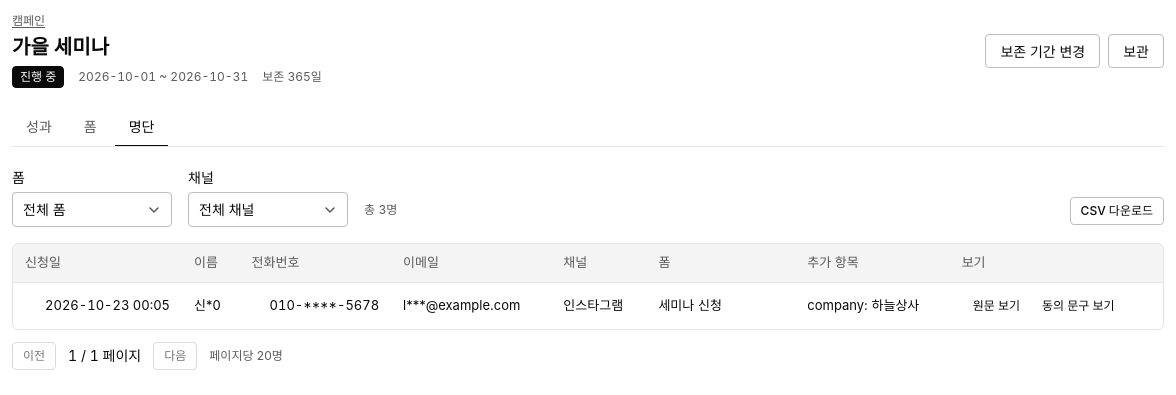
Test: 명단 CSV 다운로드 › Esc로 메뉴를 닫고 버튼으로 포커스를 돌린다
Check: the text "신*0" is shown, box [182, 282, 240, 328]
Click the button "CSV 다운로드".
click(1117, 211)  # box [1070, 197, 1164, 225]
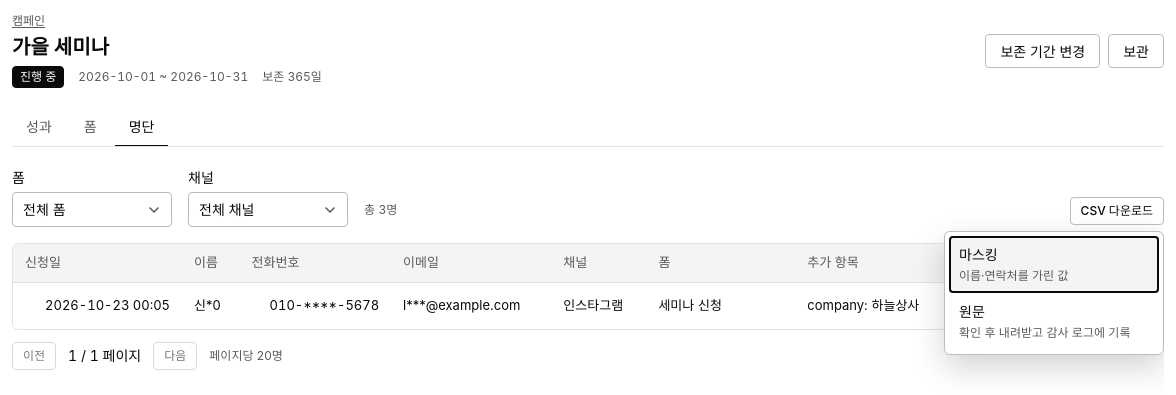
Press ArrowDown in the menu named "CSV 다운로드", box [944, 231, 1164, 355]
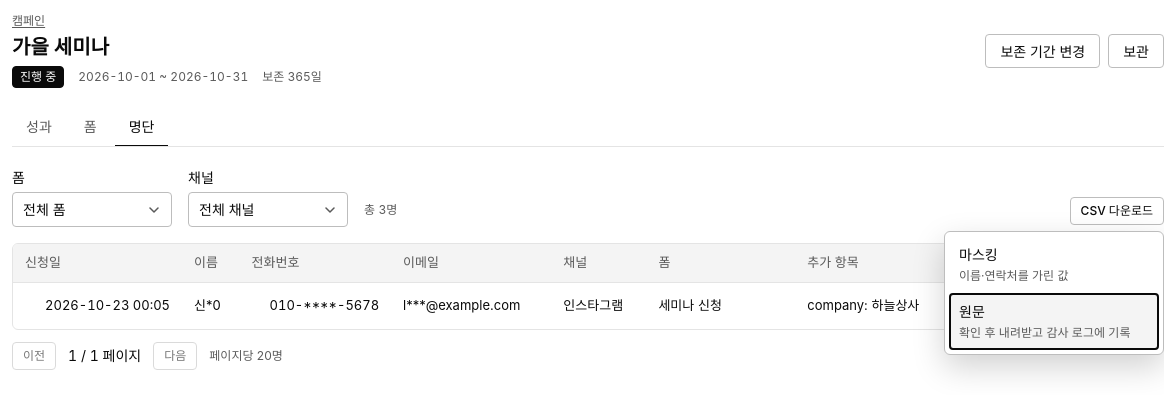
Press Escape in the menu named "CSV 다운로드", box [944, 231, 1164, 355]
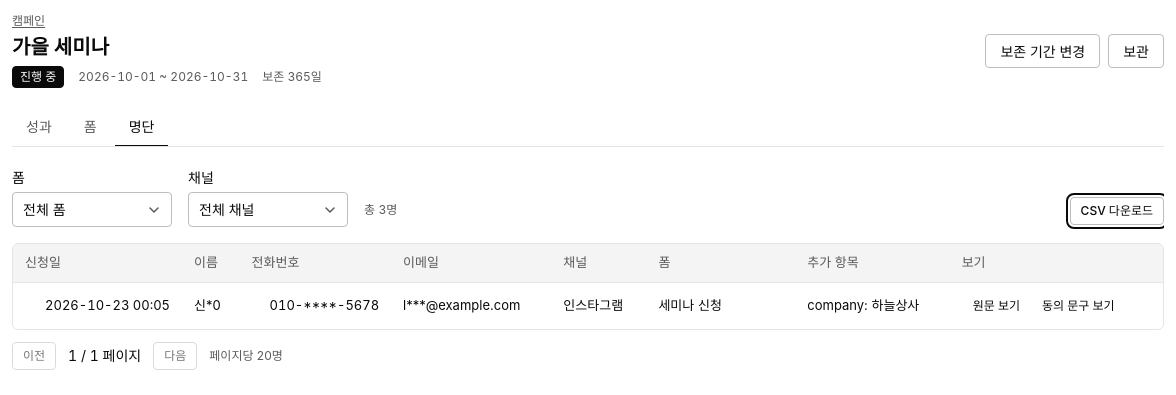
Check: the menu is gone
